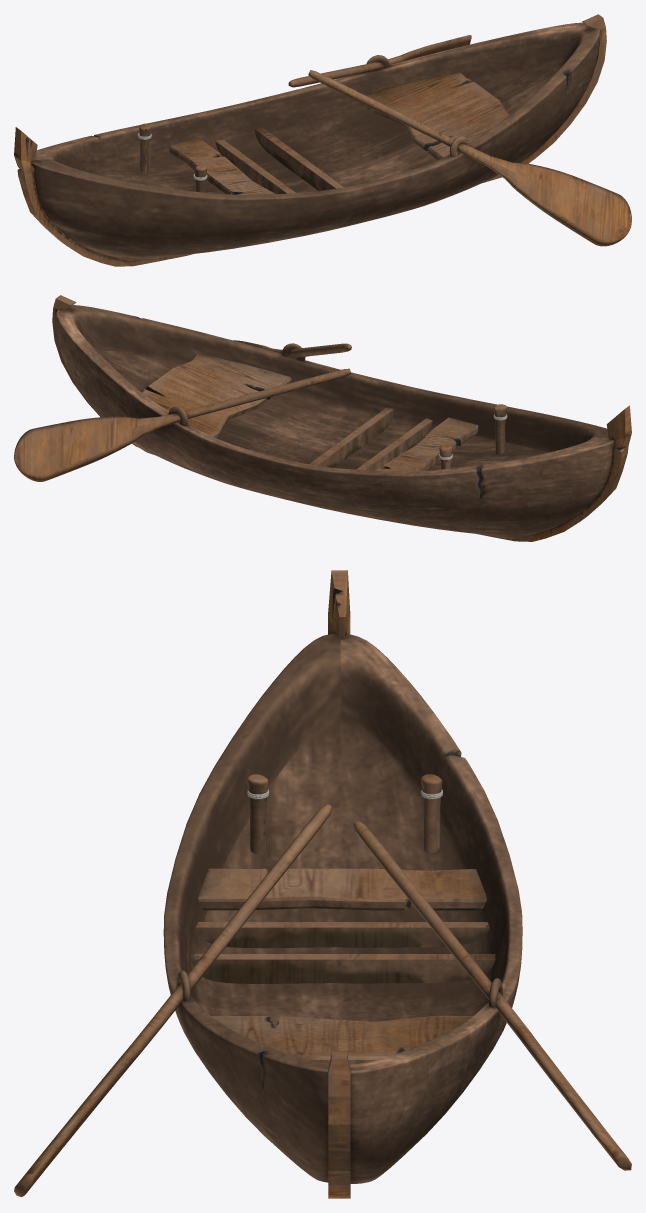
File: WoodenBoat.fbx
3 views of the same model, one above another, from view 1: azimuth 30°, elevation 25°; view 2: azimuth 150°, elevation 25°; view 3: azimuth 270°, elevation 25° (orthographic). The views are drawn at different scales.
Visible parts, largest first — view 1: Body_Body_boat_0; view 2: Body_Body_boat_0; view 3: Body_Body_boat_0.
Boxes of the visible parts, x1=… form: Body_Body_boat_0: x1=14, y1=14, x2=631, y2=266; Body_Body_boat_0: x1=14, y1=295, x2=631, y2=541; Body_Body_boat_0: x1=14, y1=570, x2=631, y2=1198.
Bounding box in the file's own units: 834 × 225 × 489.
